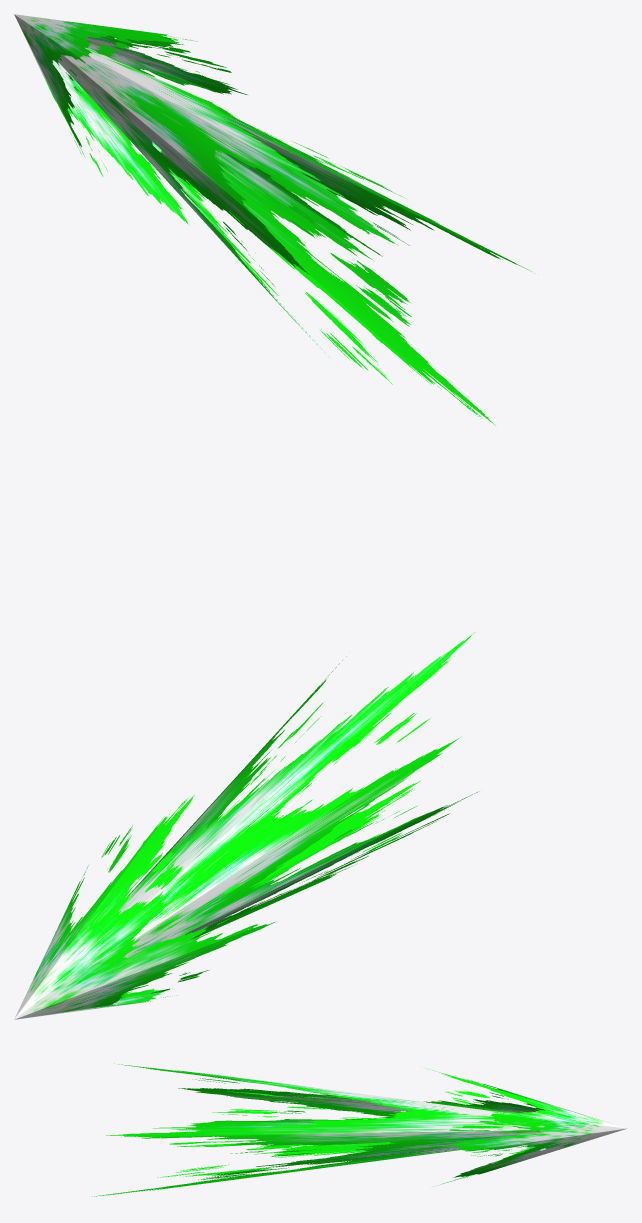
The model's file is mazuru.FBX.
3 renders of one model, top to bottom at view 1: azimuth 30°, elevation 25°; view 2: azimuth 150°, elevation 25°; view 3: azimuth 270°, elevation 25°, orthographic. The views are drawn at different scales.
Parts seen in each view (by area): view 1: Cone002, Cone001; view 2: Cone002, Cone001; view 3: Cone002, Cone001.
Part boxes in pixels (left/top/right/bottom): Cone002: left=55, top=47, right=531, bottom=425; Cone001: left=14, top=14, right=247, bottom=225; Cone002: left=119, top=632, right=478, bottom=958; Cone001: left=14, top=794, right=274, bottom=1019; Cone002: left=91, top=1063, right=544, bottom=1196; Cone001: left=423, top=1068, right=627, bottom=1185.
Size of the model in its own units: 12.21 by 12.21 by 47.55.
